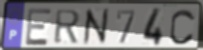4: (142, 7, 165, 48)
7: (115, 8, 136, 46)
C: (168, 8, 197, 47)
E: (24, 7, 54, 47)
N: (82, 7, 110, 48)
R: (53, 9, 83, 46)
